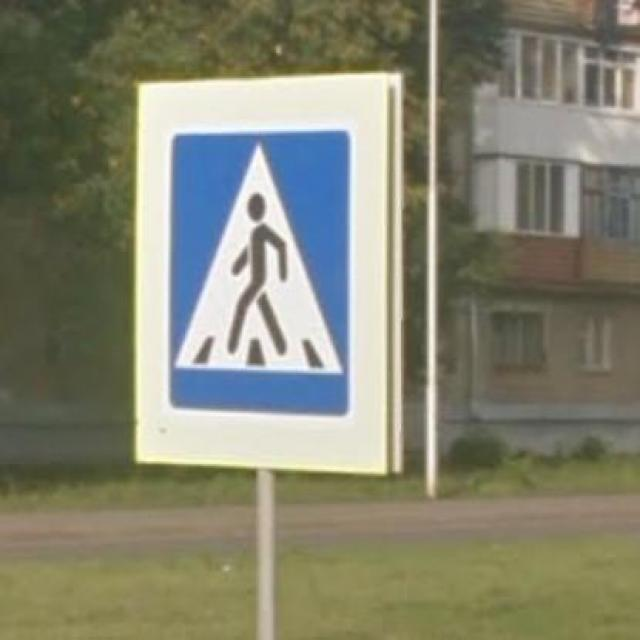traffic_sign: (133, 71, 390, 478)
